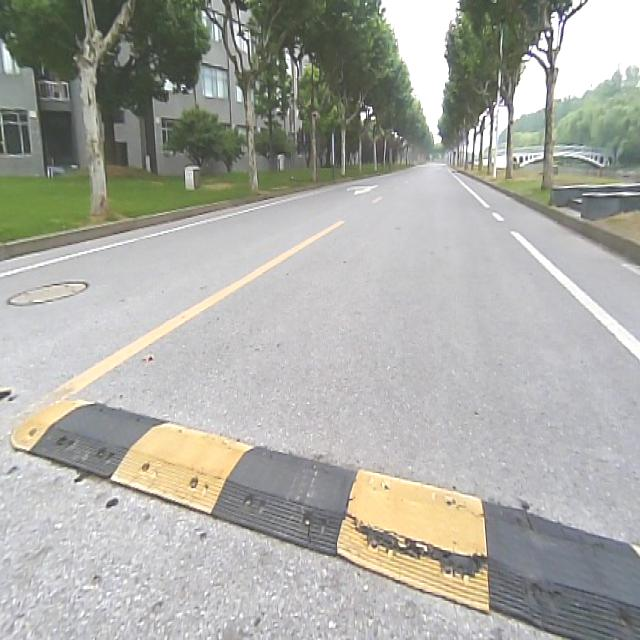Speed Bump: (7, 392, 639, 637)
